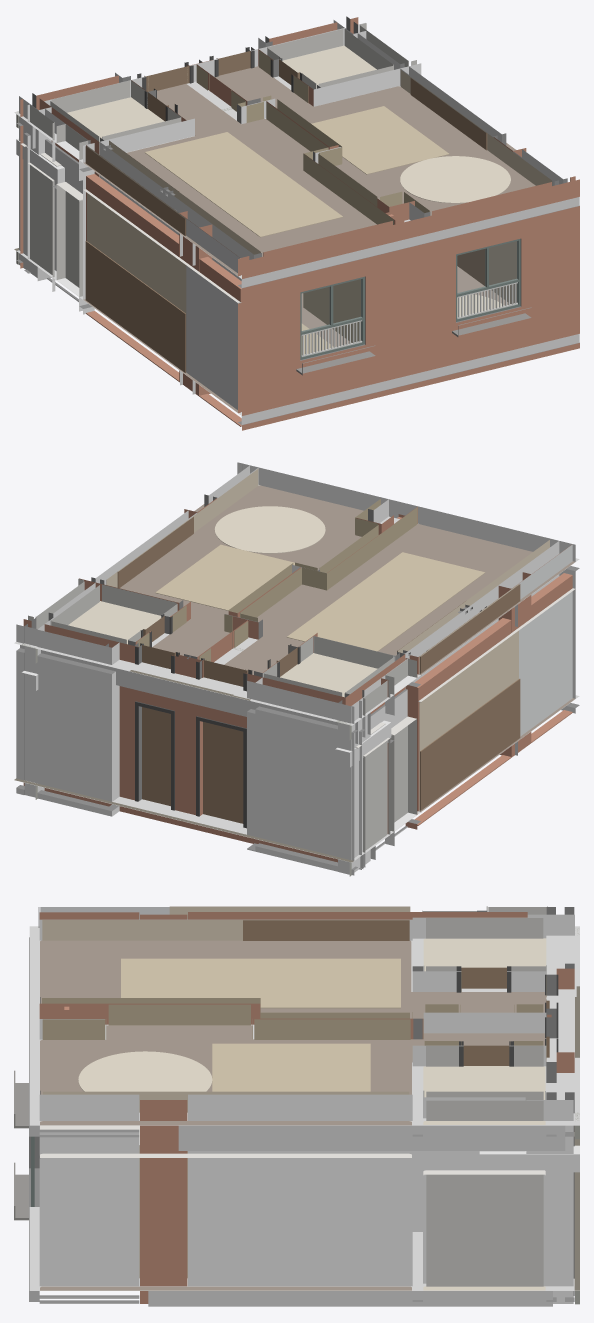
Rendered from shell.glb.
3 views of the same model, one above another, from view 1: azimuth 30°, elevation 25°; view 2: azimuth 150°, elevation 25°; view 3: azimuth 270°, elevation 25° (orthographic). The views are drawn at different scales.
Visible parts, largest first — view 1: shell_HLF-MAMPOSTERIA EXISTENTE, shell_HLF-REF 01 PISO VINILICO MADERA - VETA 090, shell_HLF-TAPETE TA-02, shell_HLF-BLANCO, shell_HLF-REF 09 PORCELANATO SANTORINI GREY 120x120, shell_HLF-REF 08 CABECERO MELAMINA SIKUANI, shell_HLF-REF 07 PAPEL COLGADURA LISMORE 1097.28 VESCOM, shell_HLF-CONCRETO EXISTENTE, shell_HLF-REF 03 PAPEL COLGADURA TESSERA 1071.27 VESCOM, shell_HLF-REF 05 ESPEJO 5mm ESTAMPILLADO, shell_HLF-TAPETE TA-01, shell_HLF-REF 02 PORCELANATO MOS THE DREAM 30x30 BLANCO (+8 smaller); view 2: shell_HLF-BLANCO, shell_HLF-REF 01 PISO VINILICO MADERA - VETA 090, shell_HLF-MAMPOSTERIA EXISTENTE, shell_HLF-TAPETE TA-02, shell_HLF-REF 09 PORCELANATO SANTORINI GREY 120x120, shell_HLF-REF 08 CABECERO MELAMINA SIKUANI, shell_HLF-MOB MELAMINA SIKUANI, shell_HLF-REF 07 PAPEL COLGADURA LISMORE 1097.28 VESCOM, shell_HLF-CONCRETO EXISTENTE, shell_HLF-REF 05 ESPEJO 5mm ESTAMPILLADO, shell_HLF-REF 03 PAPEL COLGADURA TESSERA 1071.27 VESCOM, shell_HLF-REF 02 PORCELANATO MOS THE DREAM 30x30 BLANCO (+5 smaller); view 3: shell_HLF-BLANCO, shell_HLF-REF 01 PISO VINILICO MADERA - VETA 090, shell_HLF-CONCRETO EXISTENTE, shell_HLF-REF 09 PORCELANATO SANTORINI GREY 120x120, shell_HLF-TAPETE TA-02, shell_HLF-MAMPOSTERIA EXISTENTE, shell_HLF-REF 03 PAPEL COLGADURA TESSERA 1071.27 VESCOM, shell_HLF-REF 02 PORCELANATO MOS THE DREAM 30x30 BLANCO, shell_HLF-REF 07 PAPEL COLGADURA LISMORE 1097.28 VESCOM, shell_HLF-TAPETE TA-01, shell_Default Wall, shell_HLF-REF 08 CABECERO MELAMINA SIKUANI (+7 smaller).
Part boxes in pixels (x1,y1,x2,y2): shell_HLF-MAMPOSTERIA EXISTENTE: (20,17,579,430); shell_HLF-REF 01 PISO VINILICO MADERA - VETA 090: (83,66,535,412); shell_HLF-TAPETE TA-02: (144,106,449,354); shell_HLF-BLANCO: (16,20,563,314); shell_HLF-REF 09 PORCELANATO SANTORINI GREY 120x120: (30,23,416,296); shell_HLF-REF 08 CABECERO MELAMINA SIKUANI: (85,78,487,372); shell_HLF-REF 07 PAPEL COLGADURA LISMORE 1097.28 VESCOM: (87,70,552,371); shell_HLF-CONCRETO EXISTENTE: (14,76,579,425); shell_HLF-REF 03 PAPEL COLGADURA TESSERA 1071.27 VESCOM: (148,50,429,342); shell_HLF-REF 05 ESPEJO 5mm ESTAMPILLADO: (186,219,240,409); shell_HLF-TAPETE TA-01: (400,156,510,317); shell_HLF-REF 02 PORCELANATO MOS THE DREAM 30x30 BLANCO: (67,45,376,141); shell_HLF-BLANCO: (16,462,575,875); shell_HLF-REF 01 PISO VINILICO MADERA - VETA 090: (120,485,575,811); shell_HLF-MAMPOSTERIA EXISTENTE: (23,498,572,862); shell_HLF-TAPETE TA-02: (155,544,485,651); shell_HLF-REF 09 PORCELANATO SANTORINI GREY 120x120: (28,579,416,852); shell_HLF-REF 08 CABECERO MELAMINA SIKUANI: (117,517,520,810); shell_HLF-MOB MELAMINA SIKUANI: (142,616,297,823); shell_HLF-REF 07 PAPEL COLGADURA LISMORE 1097.28 VESCOM: (106,469,549,810); shell_HLF-CONCRETO EXISTENTE: (14,485,579,868); shell_HLF-REF 05 ESPEJO 5mm ESTAMPILLADO: (519,544,572,736); shell_HLF-REF 03 PAPEL COLGADURA TESSERA 1071.27 VESCOM: (137,499,417,669); shell_HLF-REF 02 PORCELANATO MOS THE DREAM 30x30 BLANCO: (68,601,377,697); shell_HLF-BLANCO: (39,914,579,1303); shell_HLF-REF 01 PISO VINILICO MADERA - VETA 090: (40,940,546,1290); shell_HLF-CONCRETO EXISTENTE: (29,926,579,1306); shell_HLF-REF 09 PORCELANATO SANTORINI GREY 120x120: (422,906,547,1286); shell_HLF-TAPETE TA-02: (121,958,400,1091); shell_HLF-MAMPOSTERIA EXISTENTE: (39,912,574,1303); shell_HLF-REF 03 PAPEL COLGADURA TESSERA 1071.27 VESCOM: (42,971,546,1058); shell_HLF-REF 02 PORCELANATO MOS THE DREAM 30x30 BLANCO: (423,938,546,1290); shell_HLF-REF 07 PAPEL COLGADURA LISMORE 1097.28 VESCOM: (42,907,410,1278); shell_HLF-TAPETE TA-01: (78,1051,212,1091); shell_Default Wall: (29,907,574,1302); shell_HLF-REF 08 CABECERO MELAMINA SIKUANI: (170,906,409,940).
Size of the model in its own units: 7.75 by 3.7 by 9.3.
